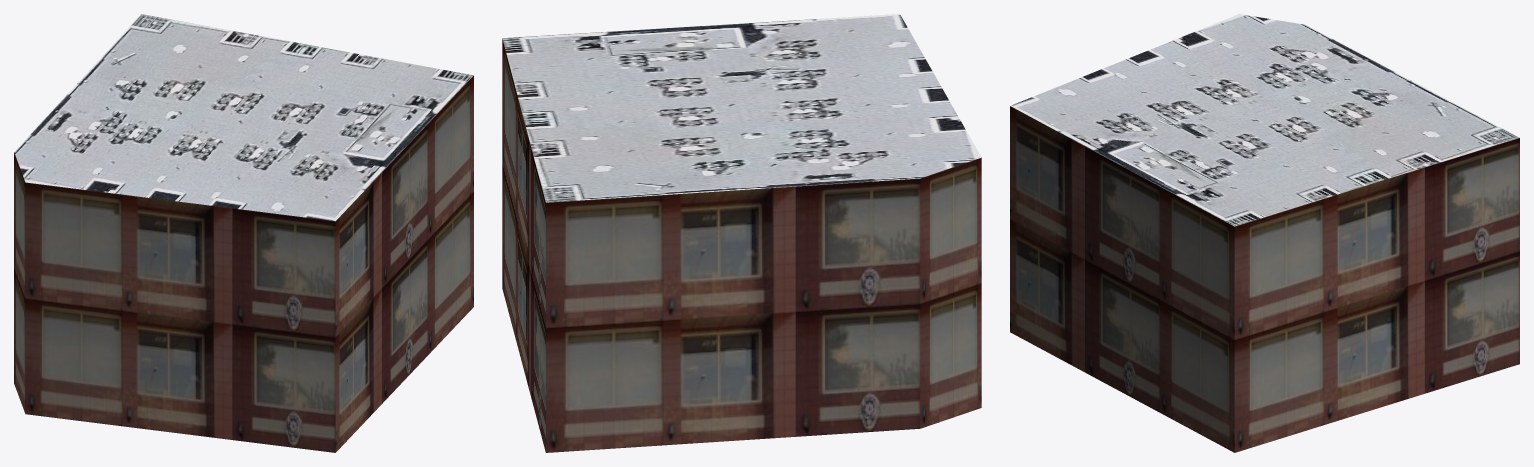
File: ResTex__2495.fbx
The picture shows the model from 3 angles, left to right: view 1: azimuth 30°, elevation 25°; view 2: azimuth 150°, elevation 25°; view 3: azimuth 270°, elevation 25°; orthographic projection. The views are drawn at different scales.
Parts seen in each view (by area): view 1: CityEngineMaterial_13_m, CityEngineMaterial_8_m; view 2: CityEngineMaterial_13_m, CityEngineMaterial_8_m; view 3: CityEngineMaterial_13_m, CityEngineMaterial_8_m.
Boxes of the visible parts, x1=… form: CityEngineMaterial_13_m: x1=14, y1=75, x2=473, y2=452; CityEngineMaterial_8_m: x1=14, y1=14, x2=473, y2=221; CityEngineMaterial_13_m: x1=502, y1=39, x2=981, y2=452; CityEngineMaterial_8_m: x1=502, y1=14, x2=981, y2=202; CityEngineMaterial_13_m: x1=1010, y1=106, x2=1519, y2=452; CityEngineMaterial_8_m: x1=1010, y1=14, x2=1519, y2=226.
Bounding box in the file's own units: 12.09 × 6 × 12.25.
Materials: 2 (2 with a texture image).
